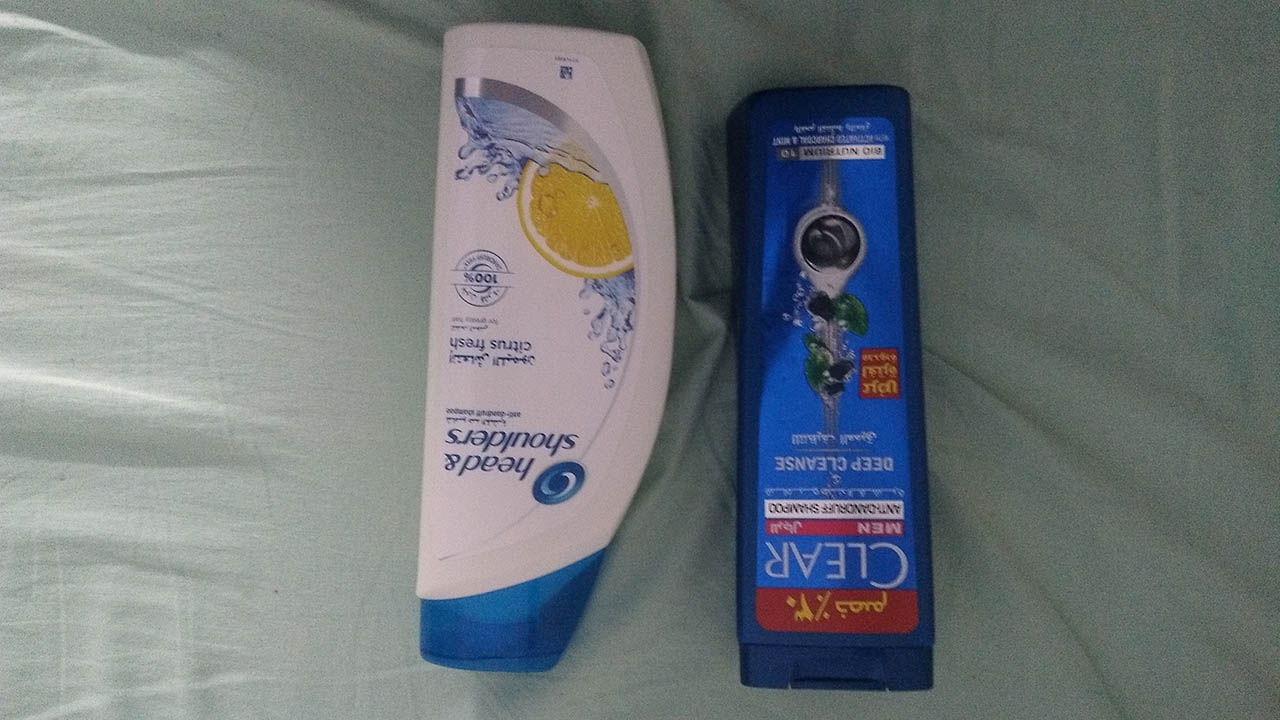Shampoo-Clear 4.7$: (714, 74, 944, 698)
shampoo-Lemon 3.5$: (412, 28, 674, 679)
